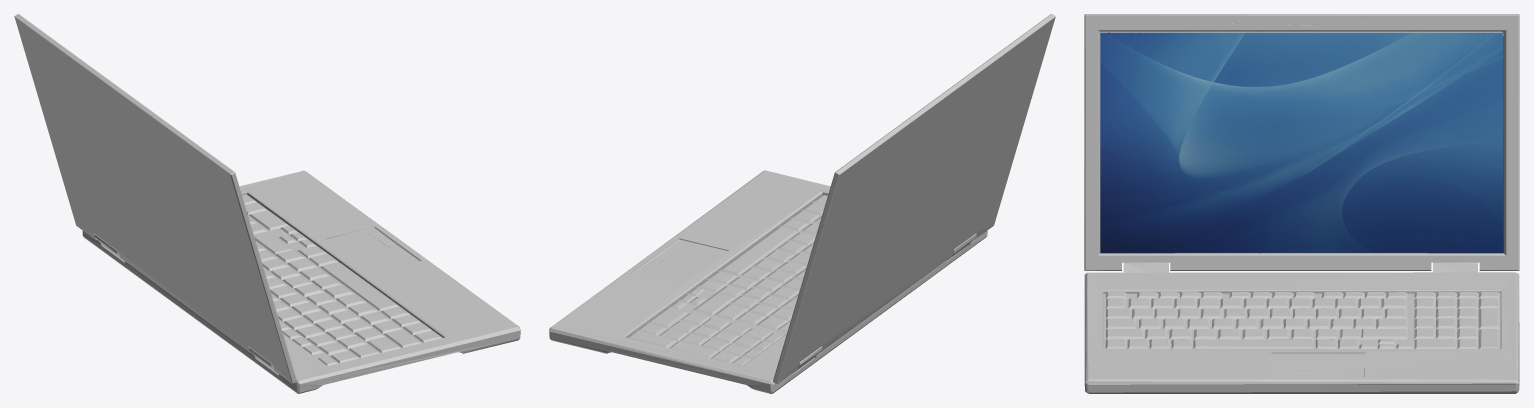
File: Laptop.FBX
3 views of the same model, side by side, from view 1: azimuth 30°, elevation 25°; view 2: azimuth 150°, elevation 25°; view 3: azimuth 270°, elevation 25° (orthographic).
Visible parts, largest first — view 1: Laptop; view 2: Laptop; view 3: Laptop.
Boxes of the visible parts, box(x1,y1,x2,y2) form: Laptop: box(14, 14, 520, 393); Laptop: box(549, 14, 1055, 393); Laptop: box(1084, 14, 1519, 393).
Size of the model in its own units: 391 by 503 by 306.
